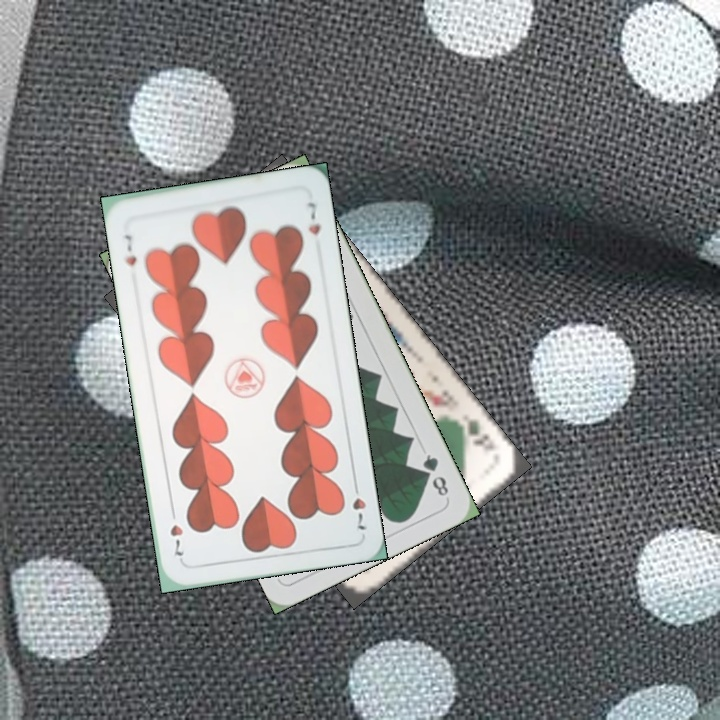G8: (418, 450, 452, 499)
GK: (452, 410, 498, 455)
H7: (348, 477, 370, 533), (120, 230, 140, 269)
